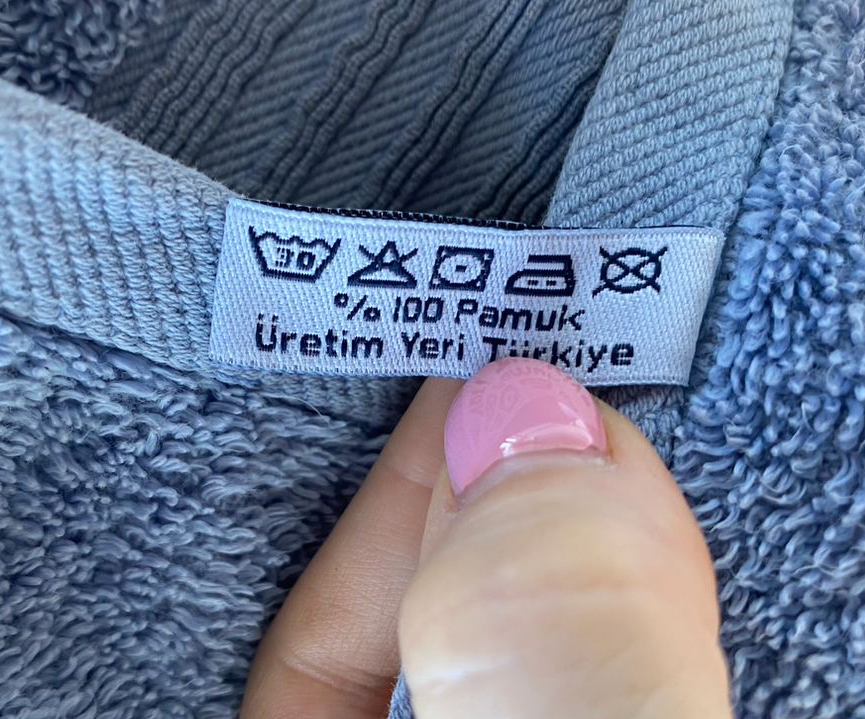do_not_bleach: (344, 235, 426, 287)
do_not_dry_clean: (587, 237, 674, 302)
ironing_at_med_temp: (504, 247, 582, 302)
tumble_drying_low_temps: (426, 241, 500, 298)
wash_at_or_below_30: (245, 229, 344, 282)
